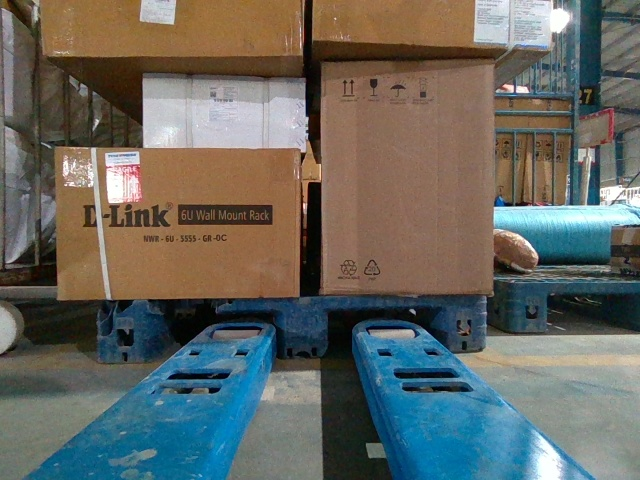block: (95, 300, 154, 363), (276, 300, 327, 361), (440, 297, 483, 352), (508, 281, 548, 334)
front: (97, 293, 487, 361)
hole pallet: (152, 305, 287, 361), (330, 302, 452, 360), (545, 294, 639, 333)
